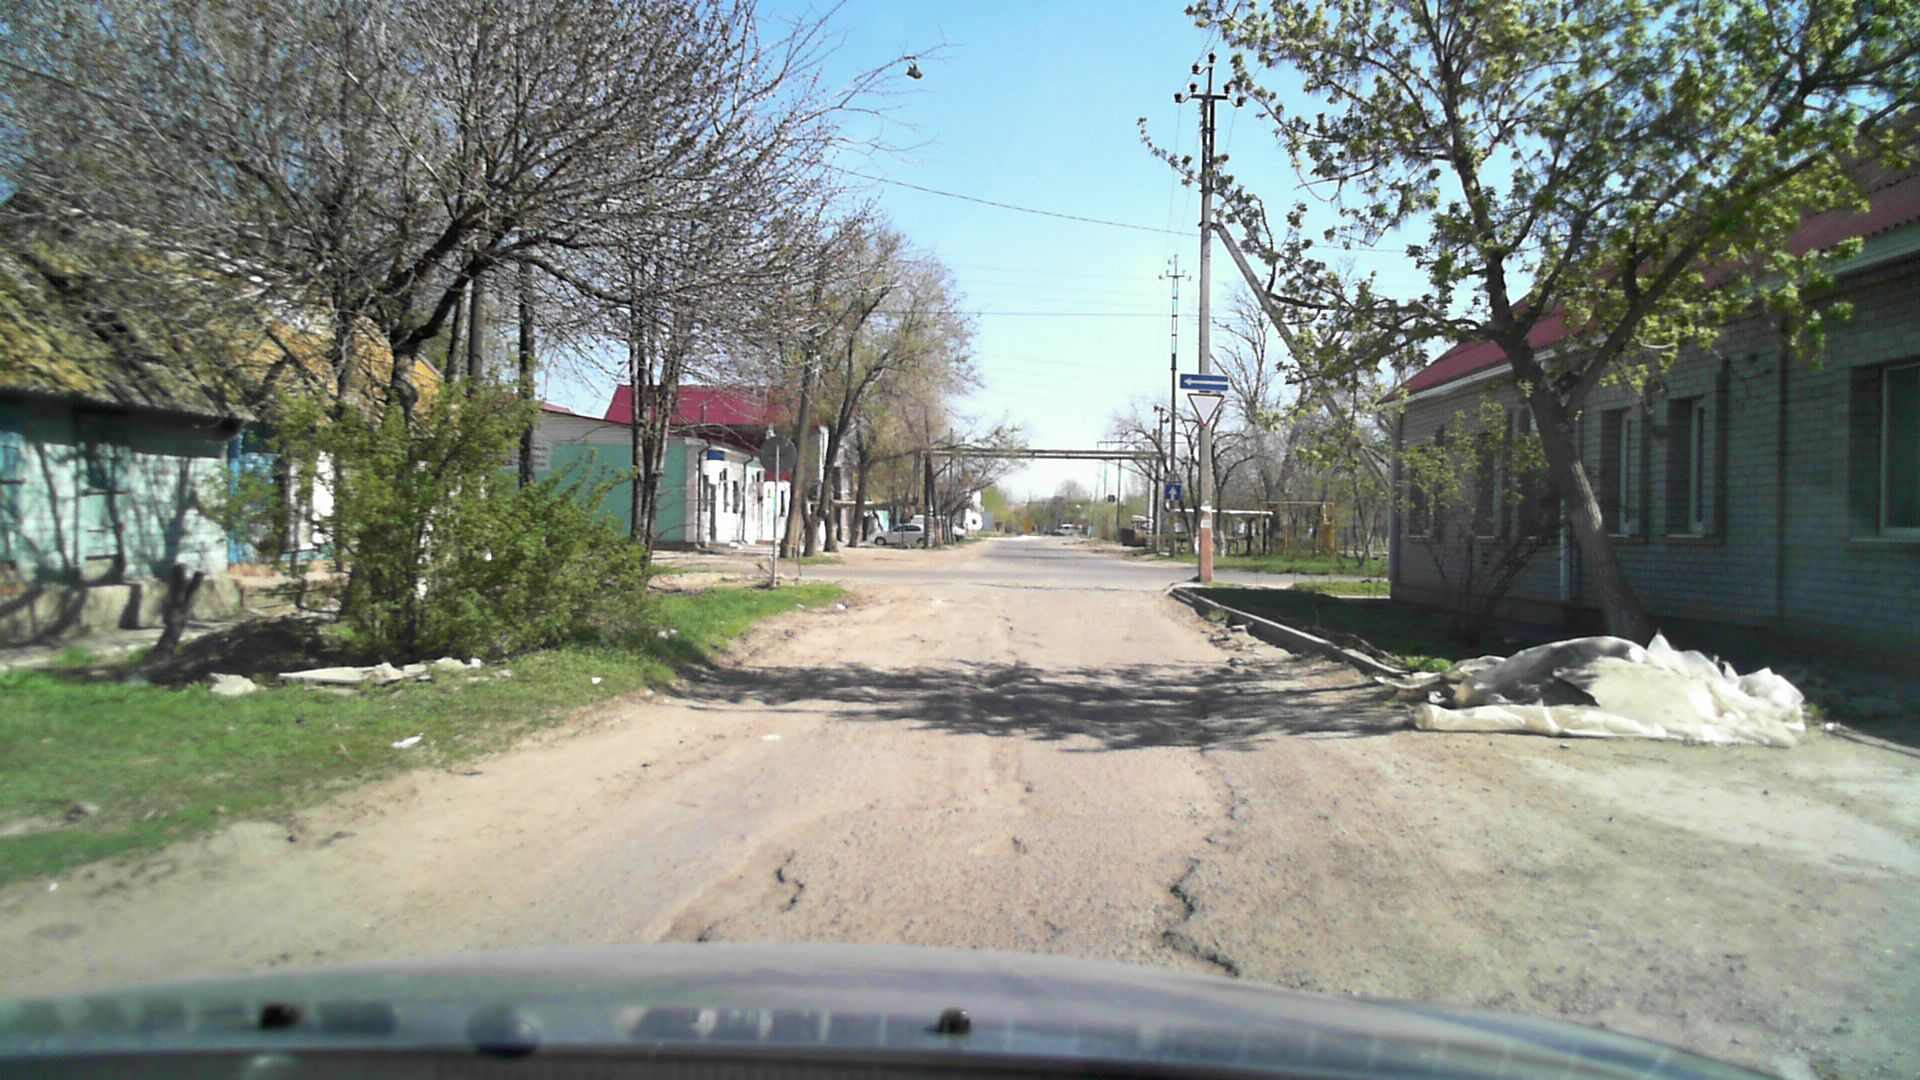One-Way Traffic: (1178, 373, 1229, 390)
